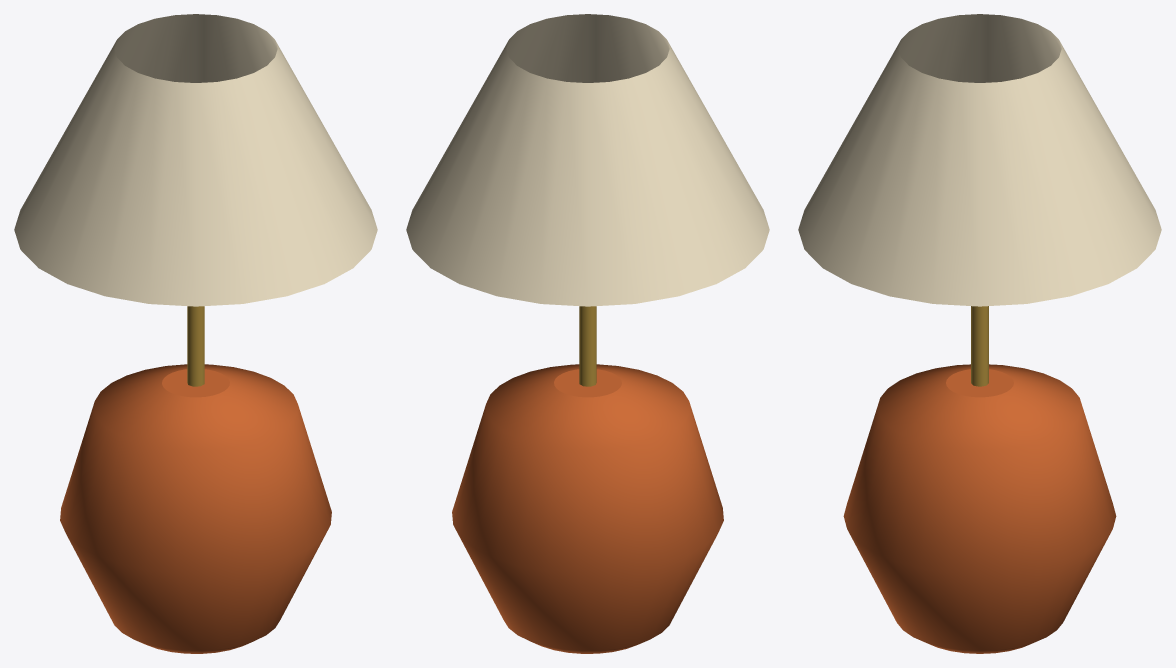
Rendered from ATL-TLP-std.glb.
3 views of the same model, side by side, from view 1: azimuth 30°, elevation 25°; view 2: azimuth 150°, elevation 25°; view 3: azimuth 270°, elevation 25° (orthographic).
Visible parts, largest first — view 1: ATL-TLP-std; view 2: ATL-TLP-std; view 3: ATL-TLP-std.
Boxes of the visible parts, left/top/right/bottom form: ATL-TLP-std: left=14, top=14, right=377, bottom=653; ATL-TLP-std: left=406, top=14, right=769, bottom=653; ATL-TLP-std: left=798, top=14, right=1161, bottom=653.
Bounding box in the file's own units: 0.32 × 0.56 × 0.32.
